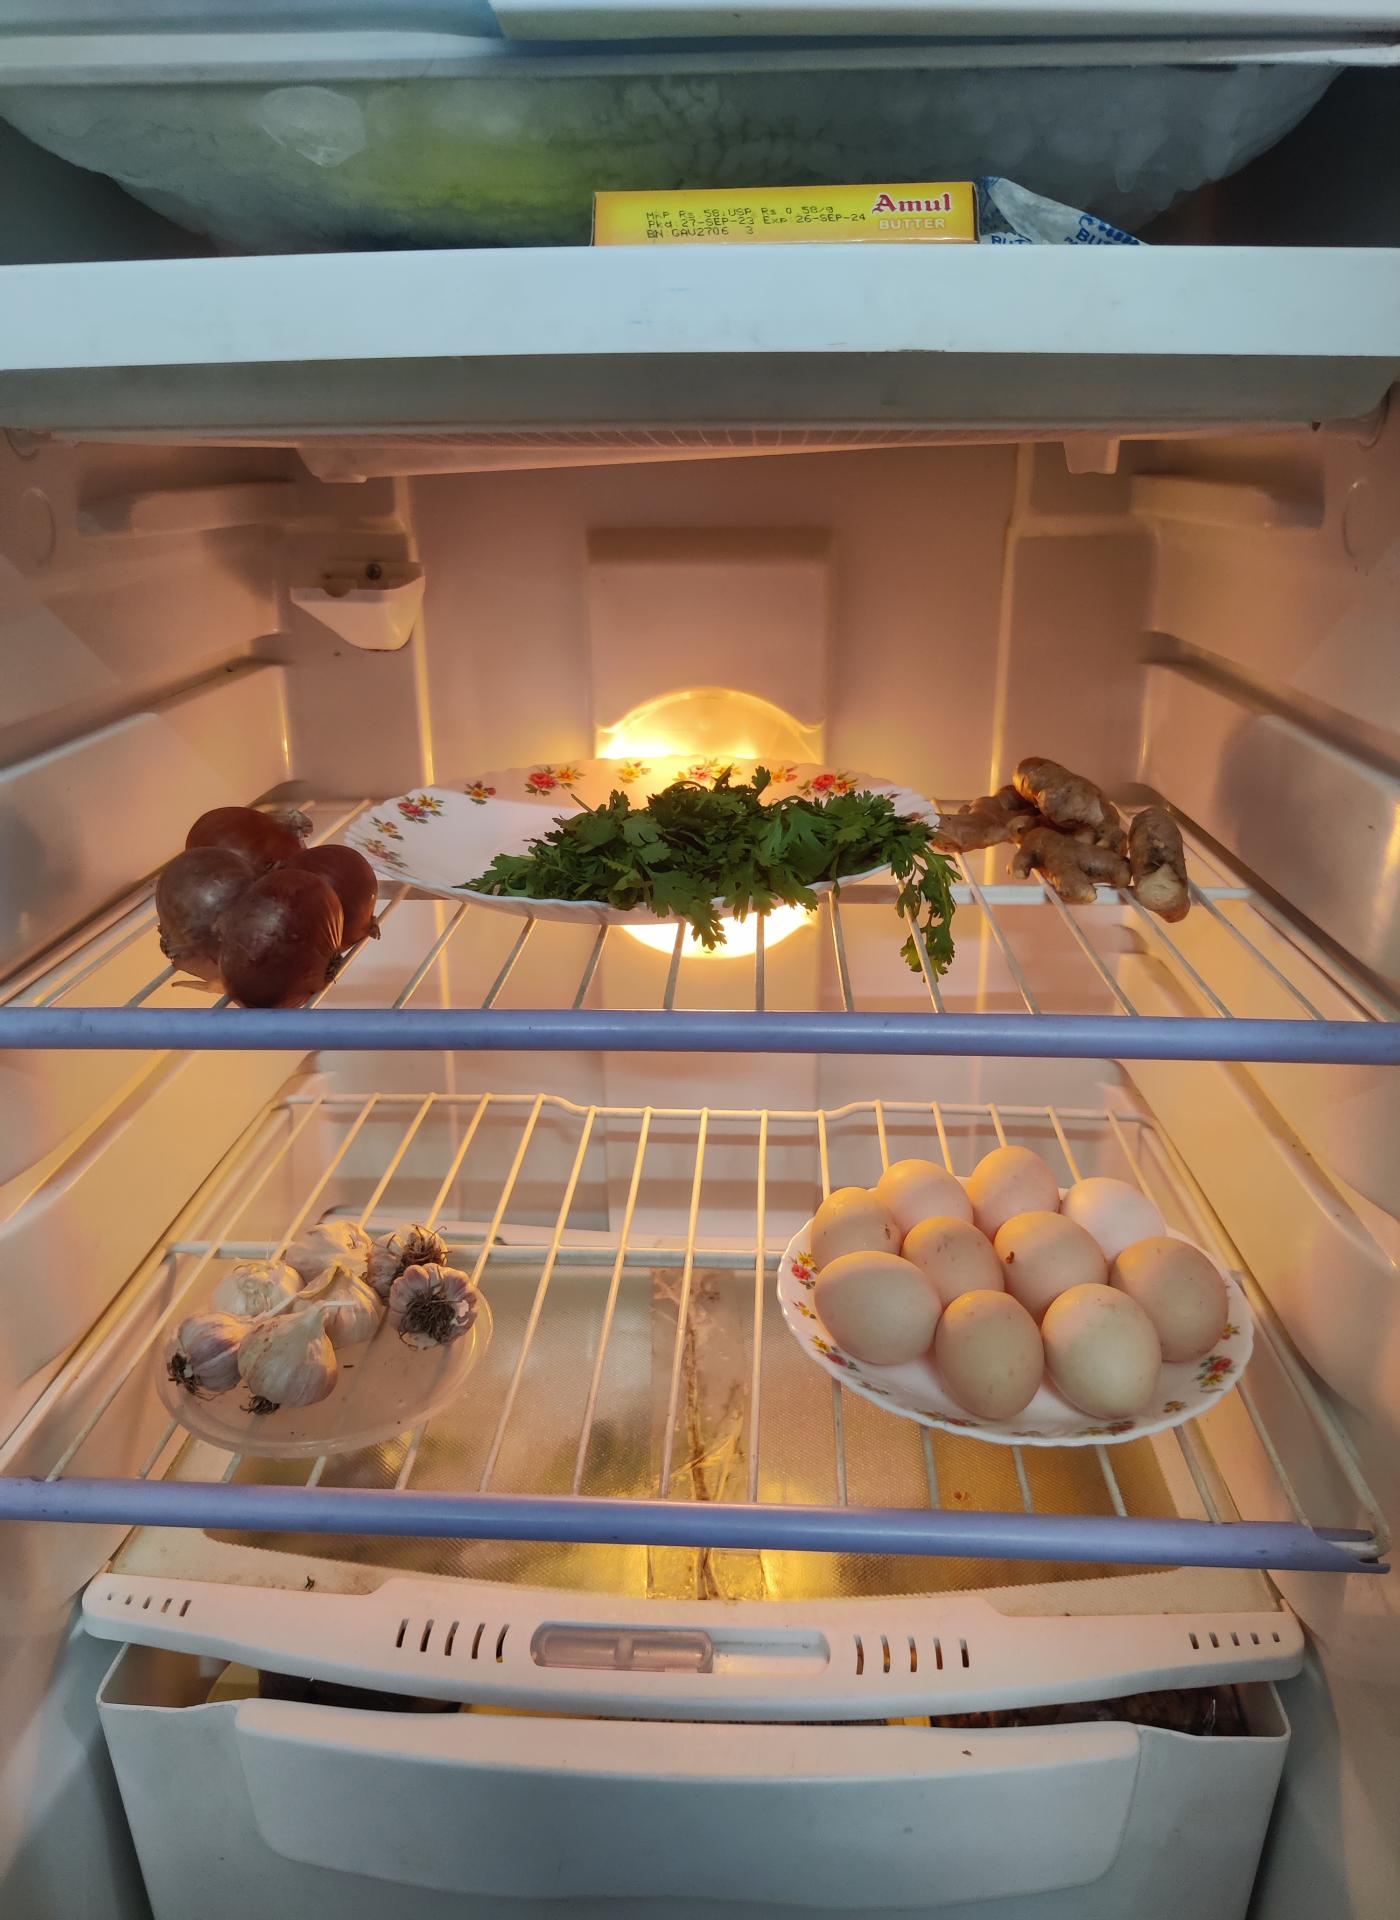coriander: (510, 774, 942, 927)
egg: (793, 1137, 1223, 1421)
garlic: (174, 1221, 479, 1427)
ginger: (963, 754, 1202, 927)
onion: (161, 802, 383, 1005)
